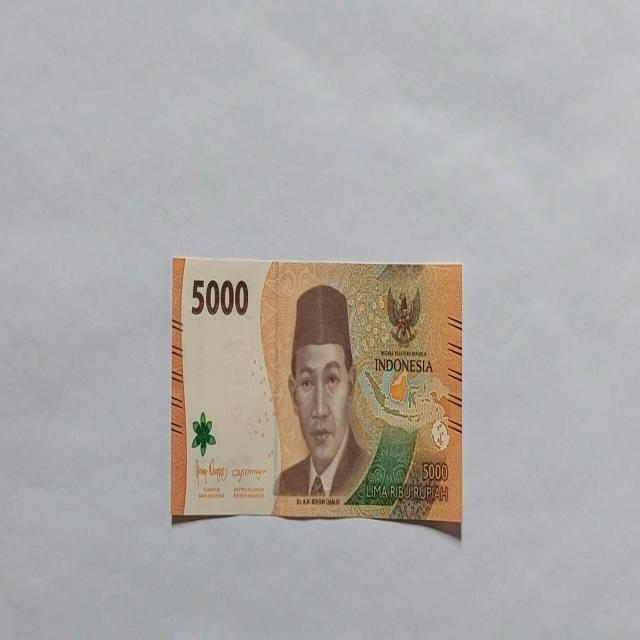lima ribu rupiah: (170, 255, 464, 533), (274, 283, 372, 502)
